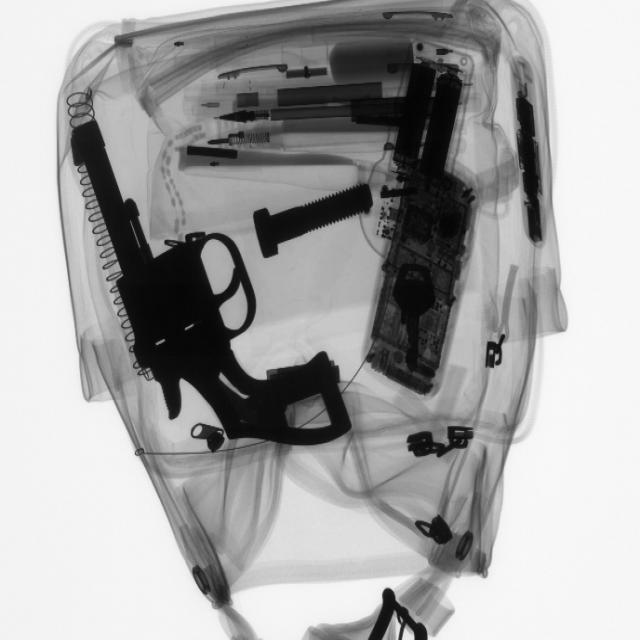GUN: (67, 120, 362, 460)
